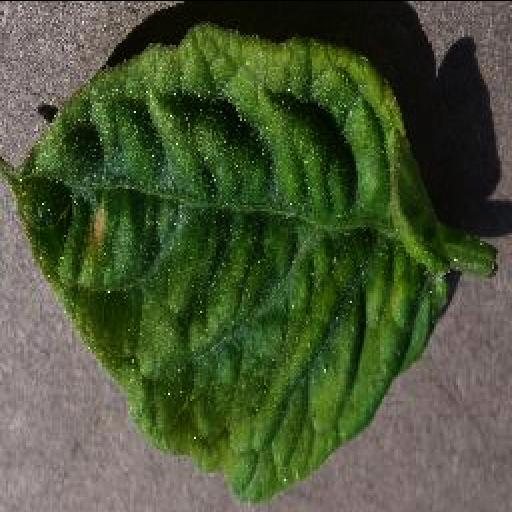disease_tomato: (0, 24, 448, 506)
